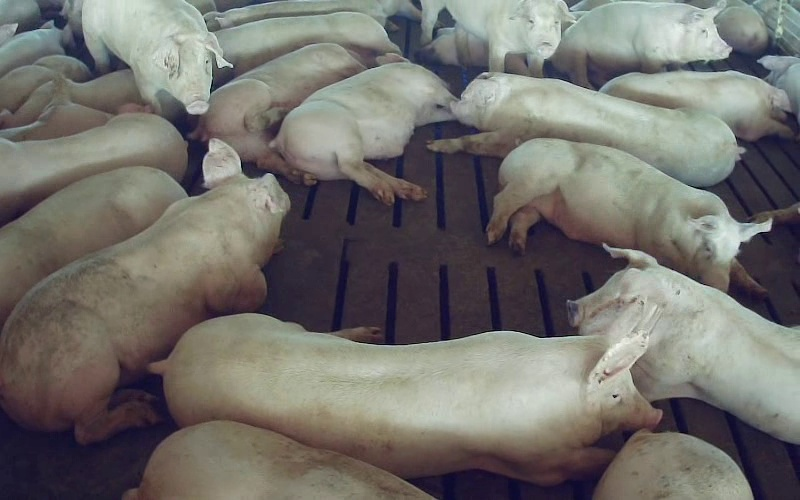pig: (151, 295, 661, 484), (0, 139, 289, 443), (570, 247, 799, 443), (487, 139, 770, 295), (428, 73, 742, 186), (0, 166, 186, 329), (270, 53, 455, 204), (191, 43, 365, 185), (123, 421, 433, 499), (0, 113, 186, 225), (82, 0, 231, 114), (551, 2, 731, 87), (214, 12, 401, 85), (600, 71, 792, 140), (421, 0, 574, 76)
